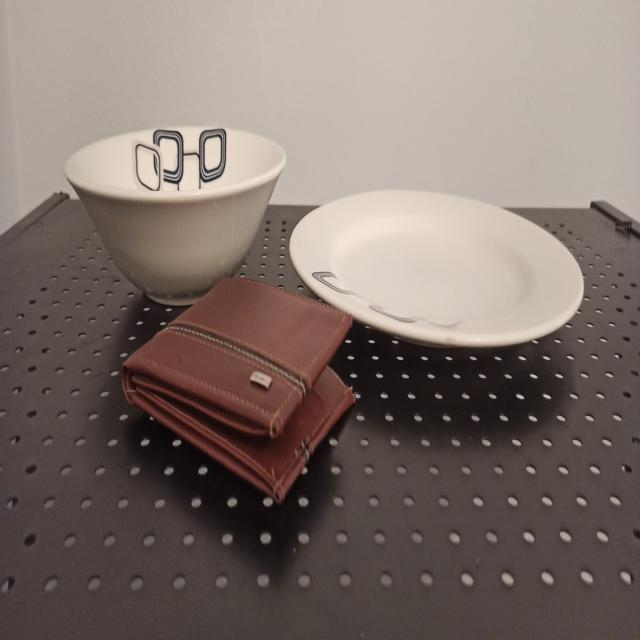non-organic waste: (274, 125, 600, 402), (62, 78, 300, 321)
